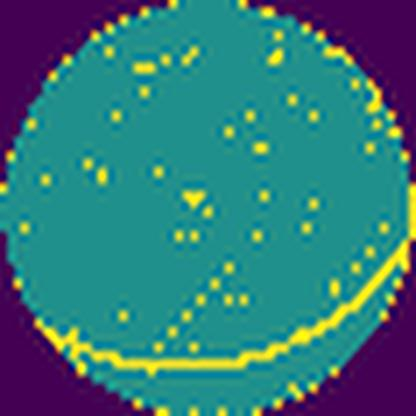Scratch: (31, 234, 415, 377)
